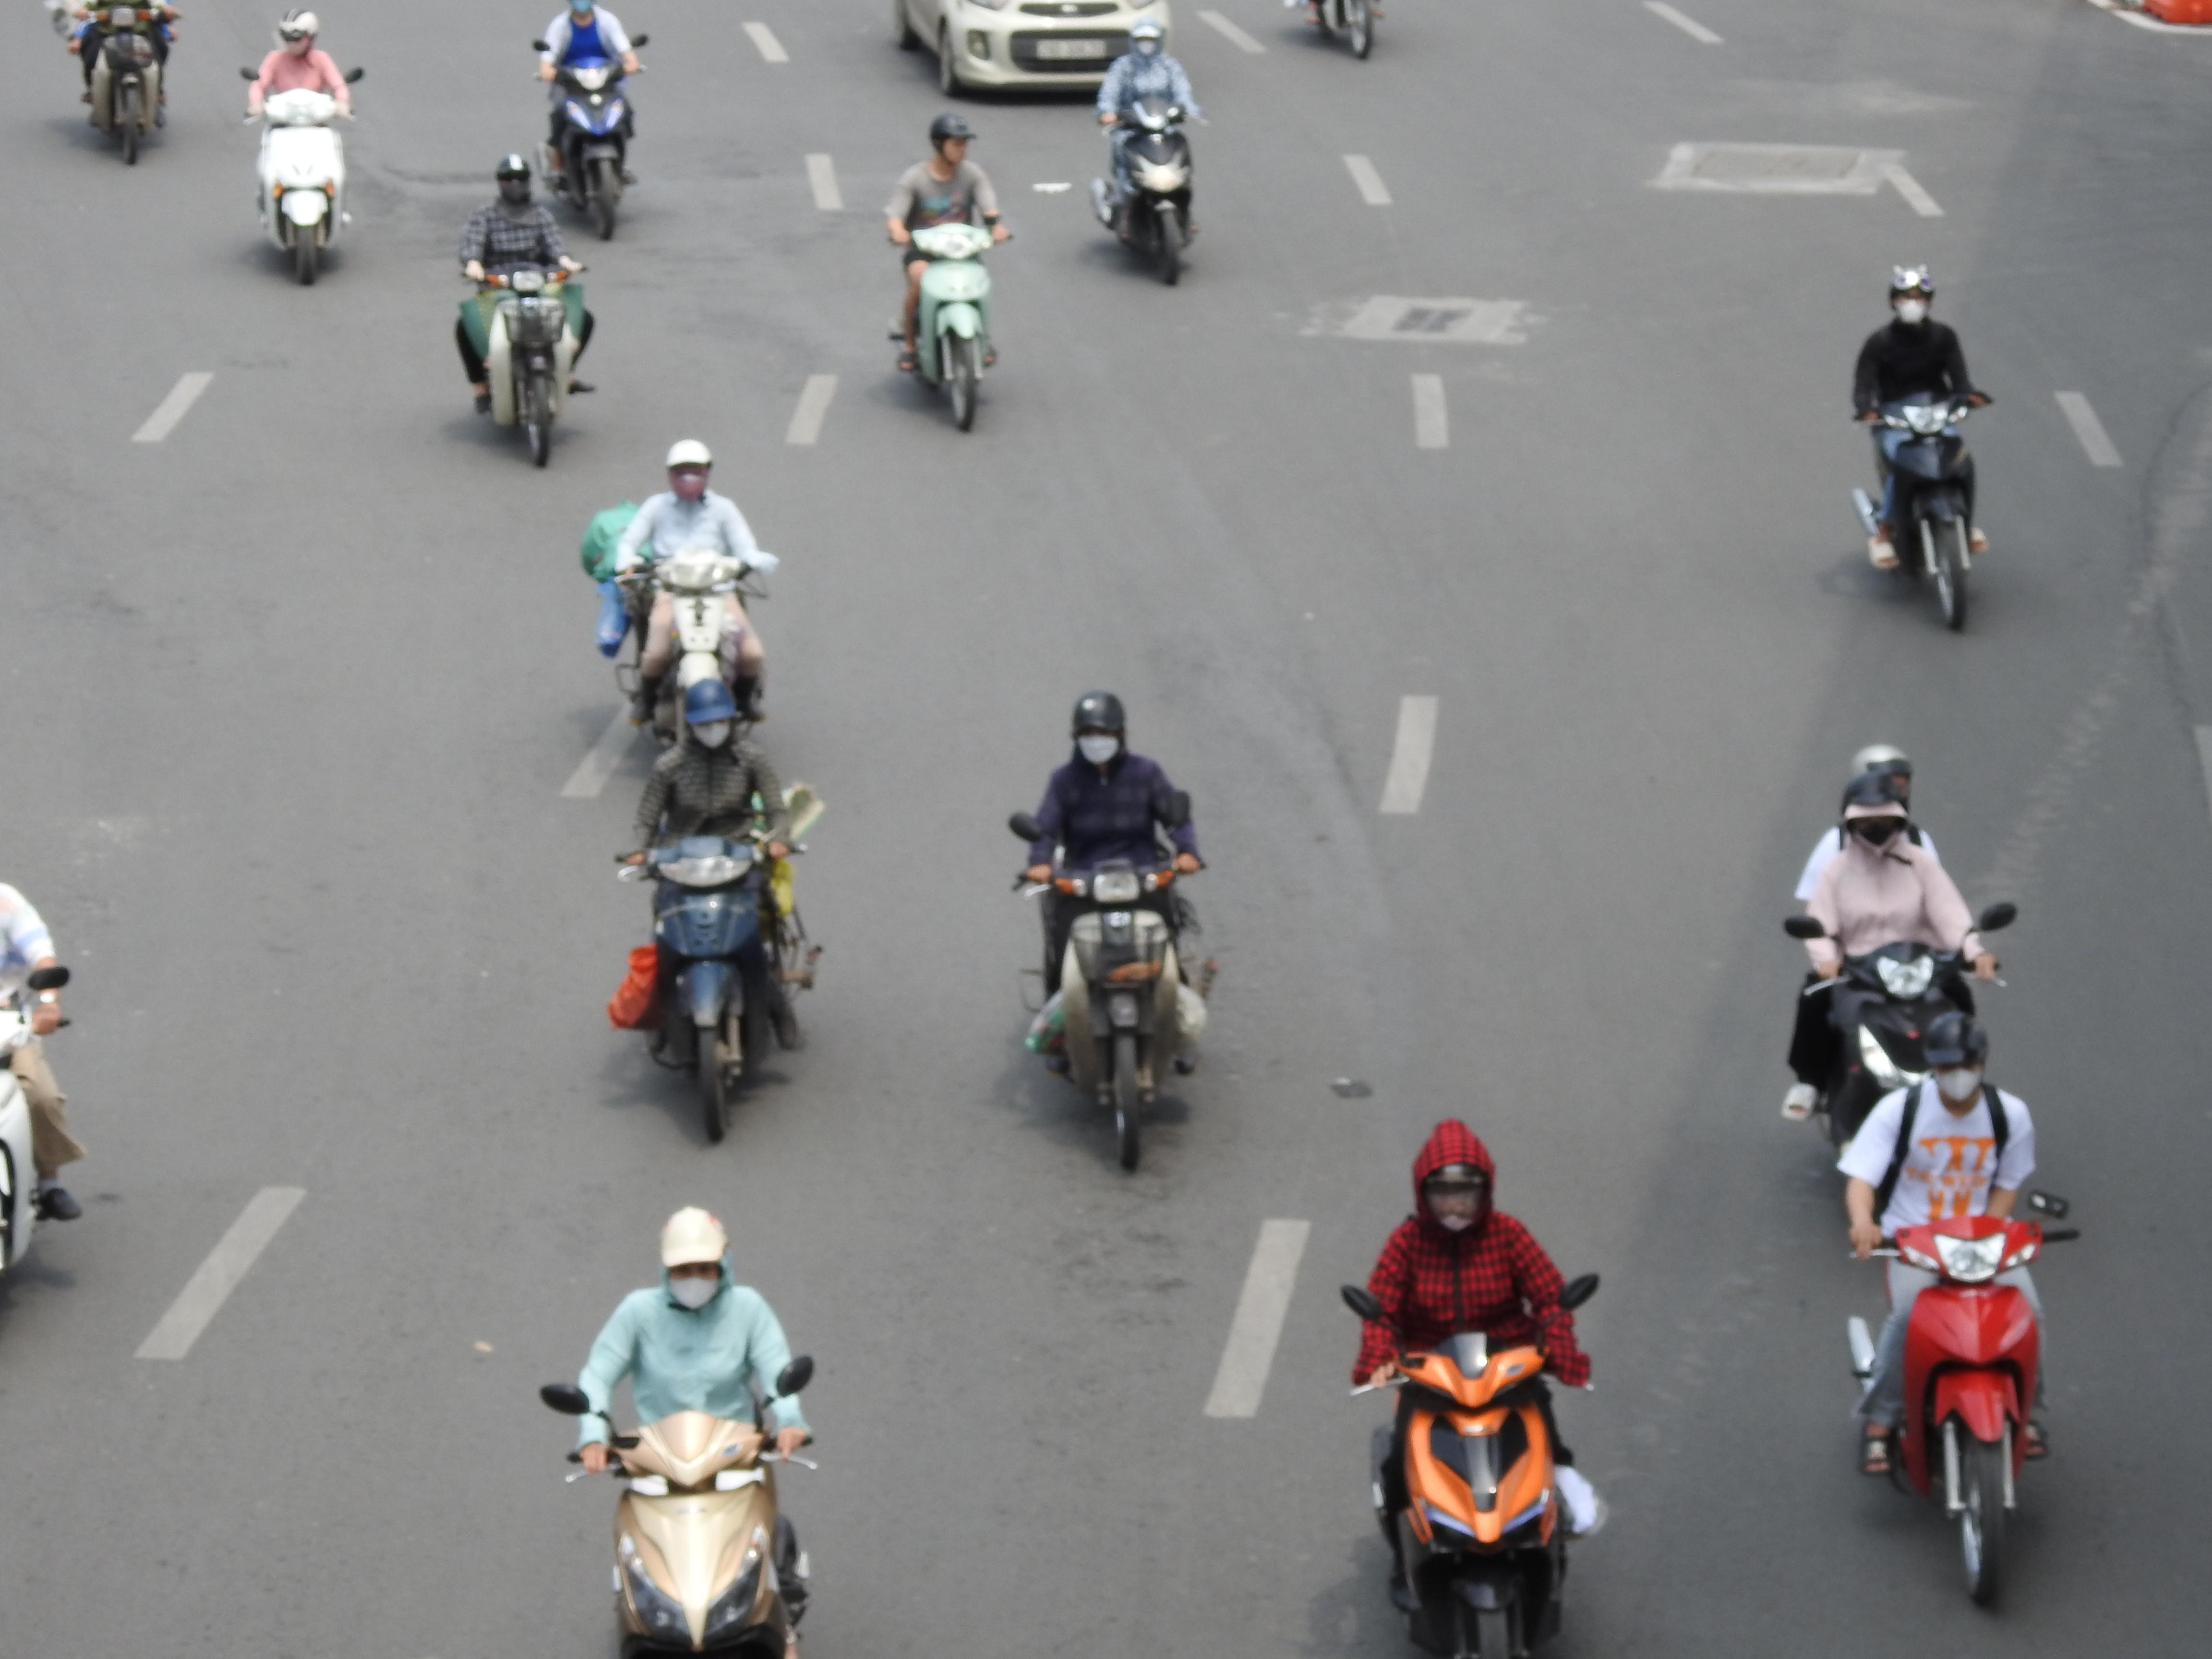BSD: (1038, 40, 1104, 58)
car: (888, 0, 1172, 101)
motorbike: (1843, 1006, 2074, 1612), (1343, 1117, 1602, 1657), (542, 1206, 819, 1659), (1010, 688, 1214, 1175), (1782, 746, 2015, 1169), (613, 671, 819, 1147), (589, 437, 775, 756), (1851, 263, 1991, 634), (0, 796, 84, 1337), (455, 152, 592, 469), (888, 112, 1008, 434), (244, 7, 359, 288), (1092, 14, 1202, 288), (533, 0, 644, 240), (59, 0, 178, 166), (1285, 0, 1390, 59)
